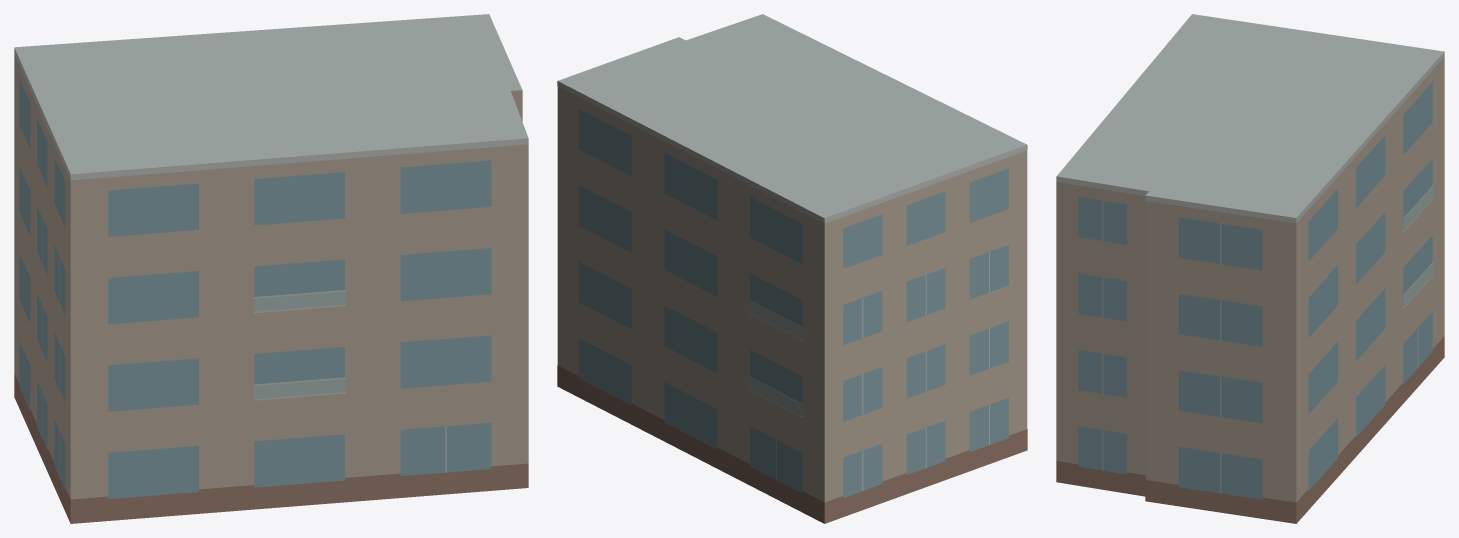
File: survey-upis-32604148.glb
3 views of the same model, side by side, from view 1: azimuth 30°, elevation 25°; view 2: azimuth 150°, elevation 25°; view 3: azimuth 270°, elevation 25° (orthographic). The views are drawn at different scales.
Visible parts, largest first — view 1: survey-upis-32604148.tmp; view 2: survey-upis-32604148.tmp; view 3: survey-upis-32604148.tmp.
Boxes of the visible parts, <box> form: survey-upis-32604148.tmp: <box>14,14,528,523</box>; survey-upis-32604148.tmp: <box>557,14,1027,523</box>; survey-upis-32604148.tmp: <box>1056,14,1444,523</box>.
Bounding box in the file's own units: 19.76 × 13.8 × 15.88.
